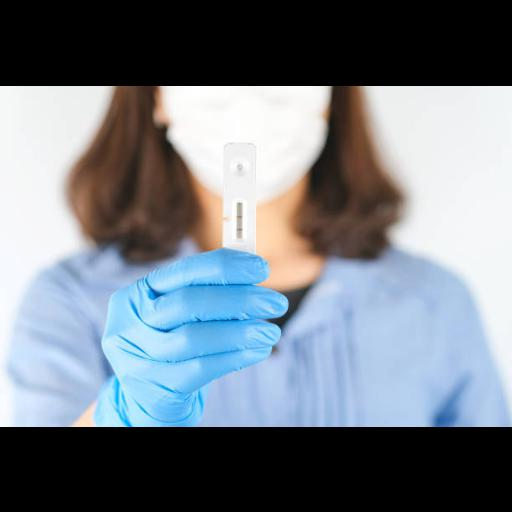Pos: (224, 142, 256, 254)
